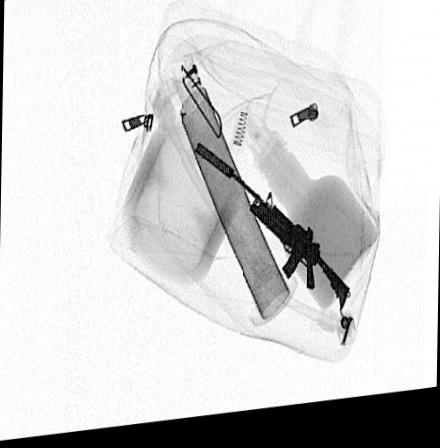Gun: (189, 152, 350, 326)
